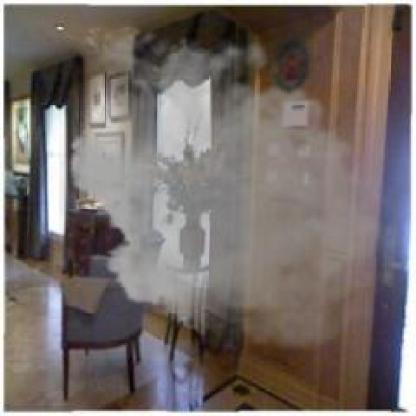Smoke: (60, 19, 399, 359)
